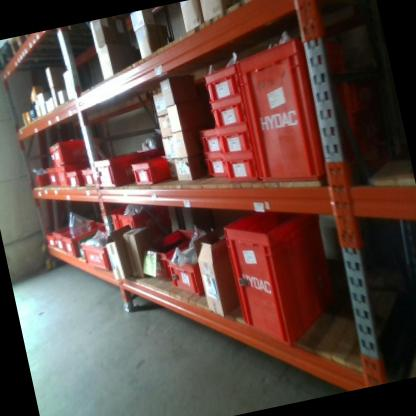pallet: (8, 20, 98, 67), (0, 31, 59, 76)
small_load_carrier: (219, 192, 347, 361), (231, 32, 331, 192), (160, 222, 234, 304), (137, 221, 207, 283), (90, 145, 164, 199), (77, 227, 136, 277), (118, 202, 182, 244), (44, 128, 105, 169), (58, 215, 109, 258), (200, 62, 241, 102), (130, 156, 174, 191), (222, 147, 259, 184), (209, 95, 247, 129), (215, 123, 253, 155), (195, 123, 223, 158), (98, 204, 127, 234), (201, 151, 226, 183), (52, 162, 76, 189), (79, 162, 101, 189), (49, 227, 68, 256), (41, 231, 59, 253), (65, 169, 82, 190), (44, 167, 56, 186)
